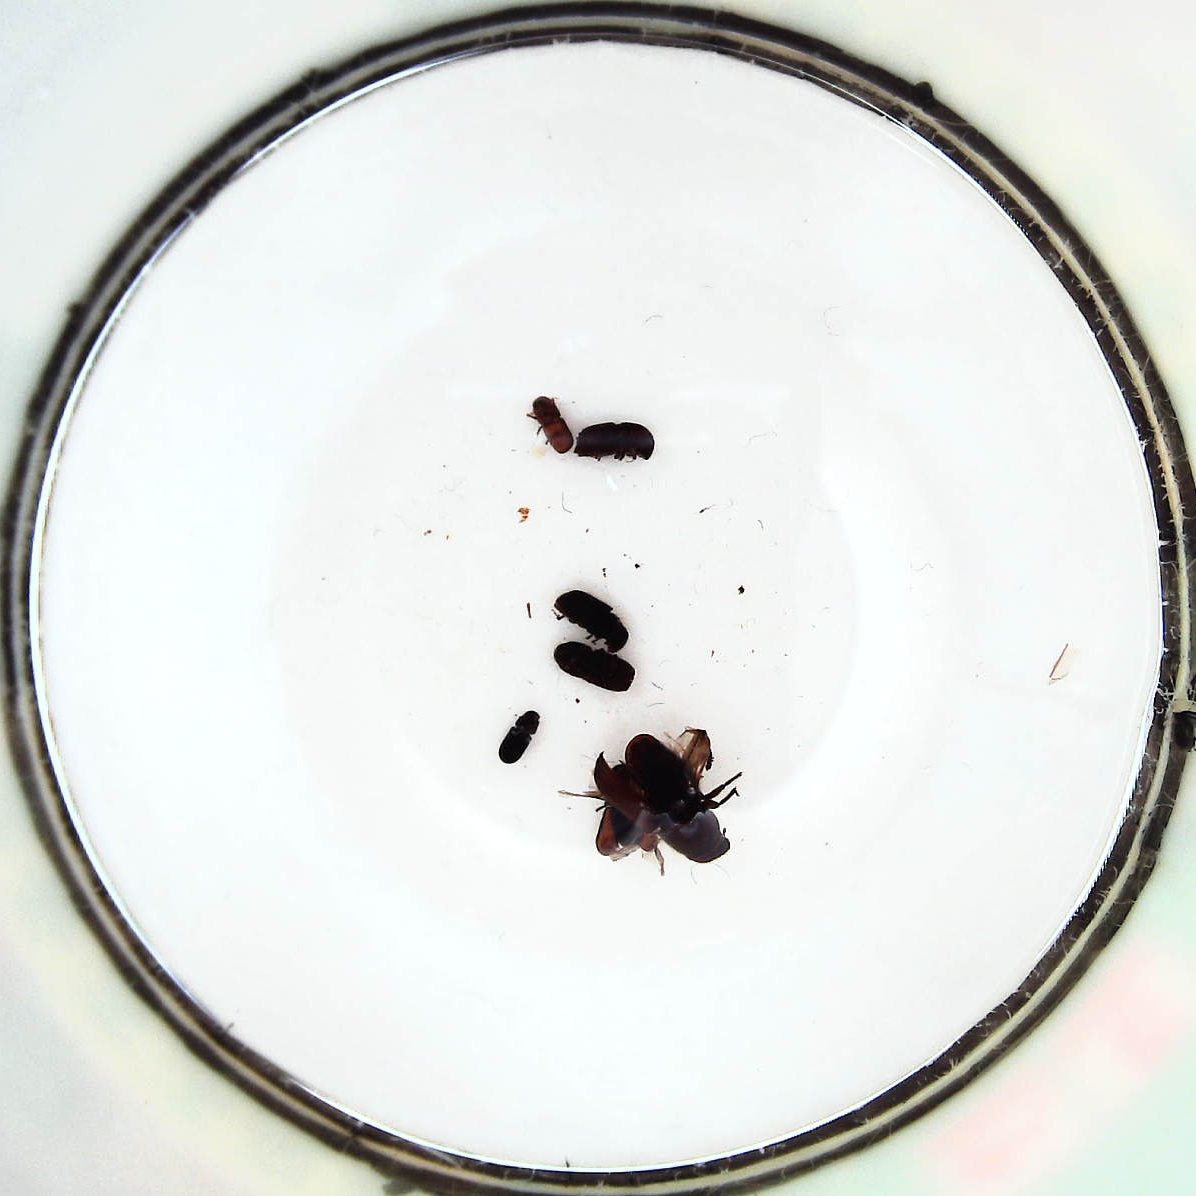Leconte: (596, 725, 738, 874)
Linnaeus: (552, 641, 636, 692), (575, 422, 656, 463)
acuminatus: (526, 393, 574, 460)
armandi: (548, 586, 631, 649)
coleoptera: (498, 708, 539, 764)
